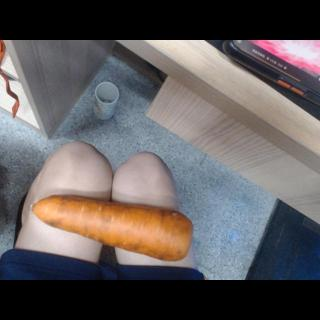carrot: (29, 194, 194, 262)
